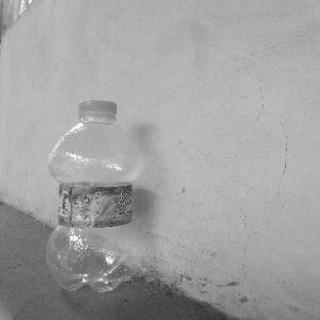plastic_bottles: (45, 98, 143, 294)
